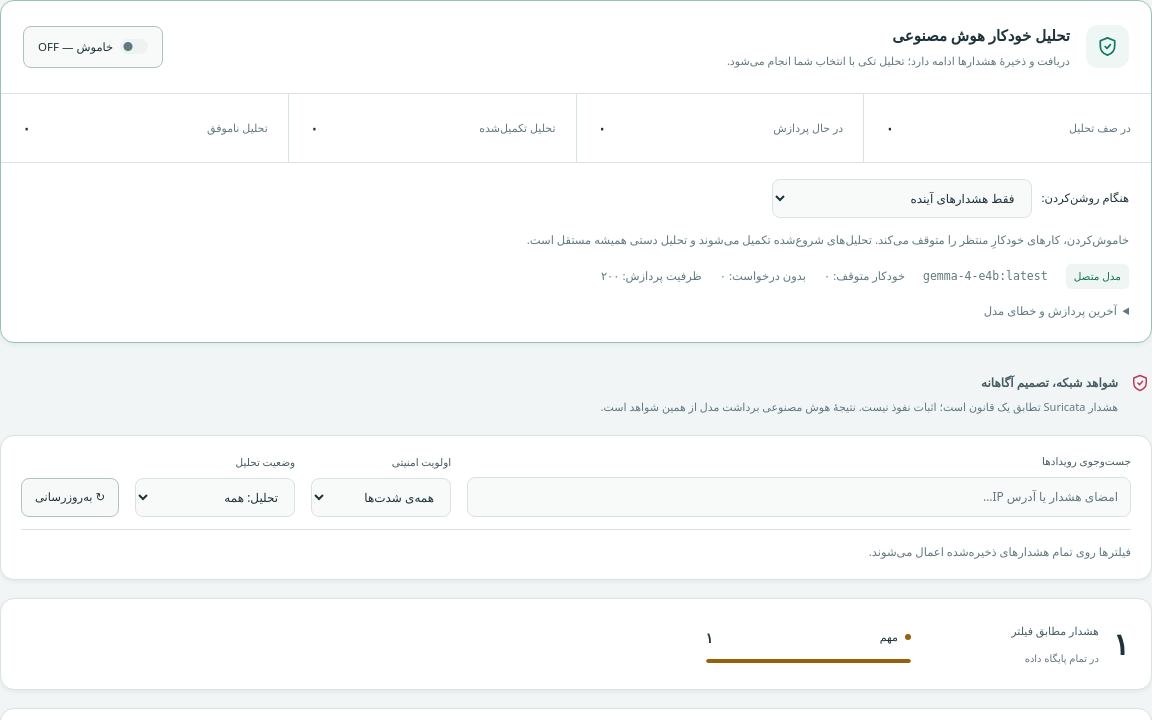
Test: SecurityPage AI analysis › persists a toggle through the authenticated backend endpoint
The width and height of the screenshot is (1164, 720).
Click the switch. click: (93, 47)
box: [23, 26, 163, 68]
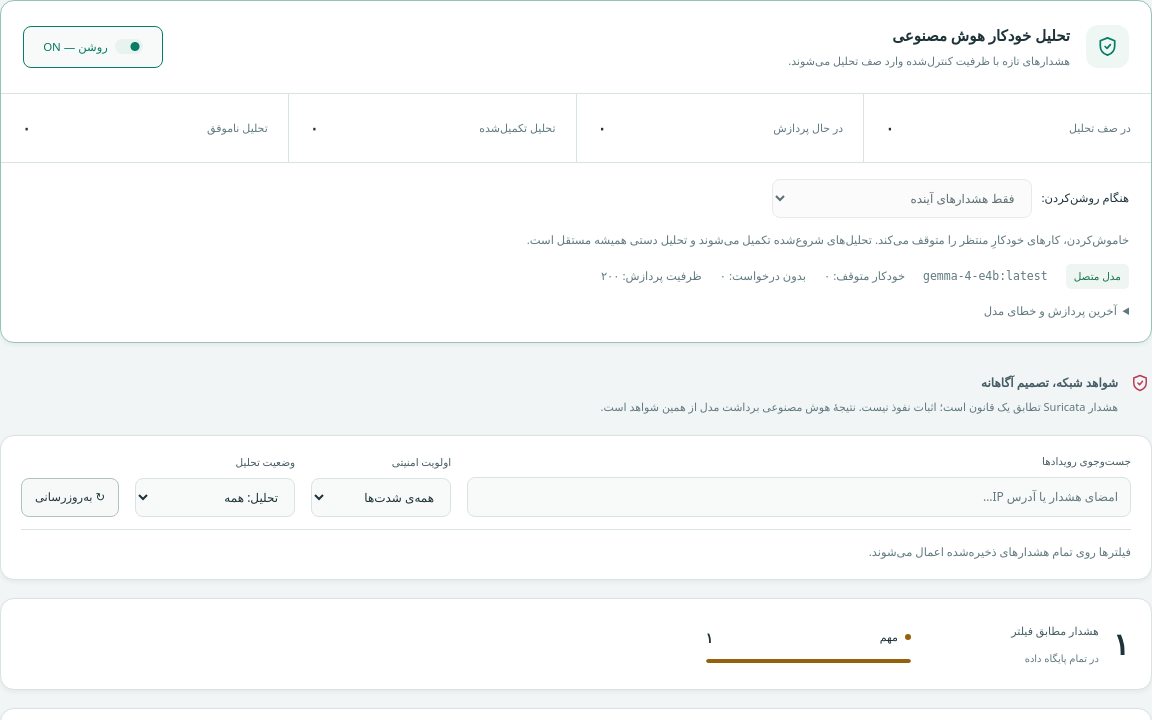
Result: the switch "روشن — ON" is shown at [23, 26, 163, 68]
